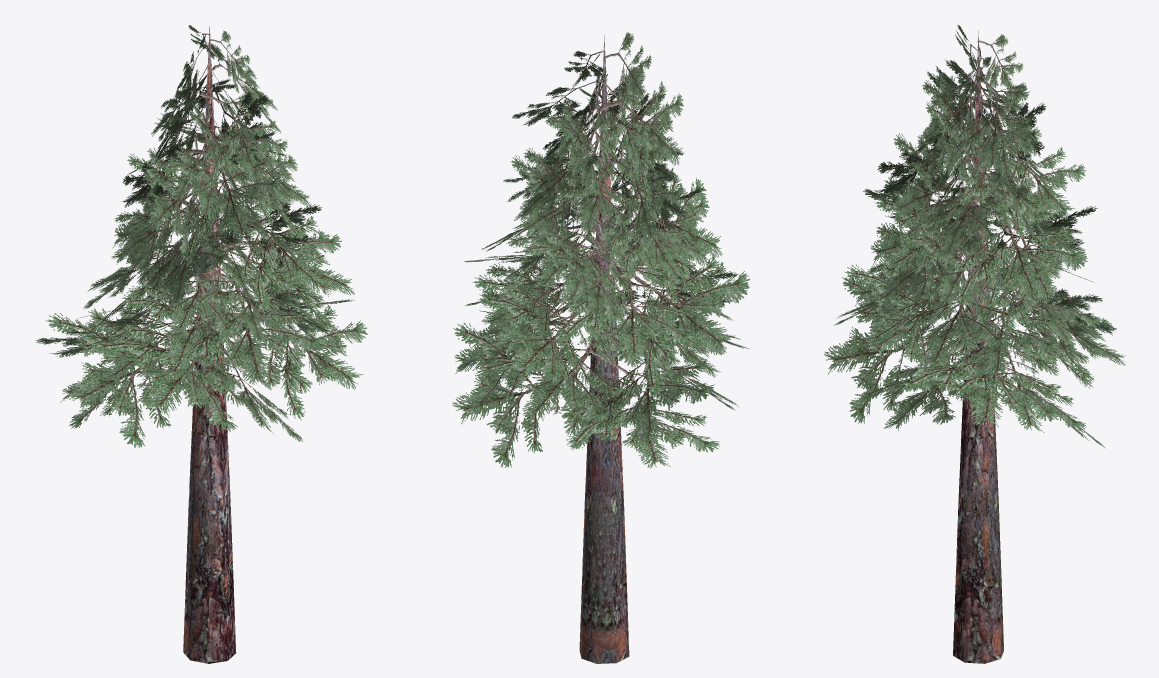
File: fp_pine_1.glb
3 views of the same model, side by side, from view 1: azimuth 30°, elevation 25°; view 2: azimuth 150°, elevation 25°; view 3: azimuth 270°, elevation 25° (orthographic).
Parts seen in each view (by area): view 1: _MeshInstance3D_34, _MeshInstance3D_33; view 2: _MeshInstance3D_34, _MeshInstance3D_33; view 3: _MeshInstance3D_34, _MeshInstance3D_33.
Part boxes in pixels (left/top/right/bottom): _MeshInstance3D_34: left=35, top=25, right=367, bottom=448; _MeshInstance3D_33: left=183, top=26, right=236, bottom=663; _MeshInstance3D_34: left=452, top=32, right=749, bottom=468; _MeshInstance3D_33: left=579, top=35, right=629, bottom=663; _MeshInstance3D_34: left=824, top=25, right=1125, bottom=447; _MeshInstance3D_33: left=953, top=31, right=1003, bottom=663.
Bounding box in the file's own units: 3.43 × 6.44 × 3.11.
Materials: 2 (2 with a texture image).
